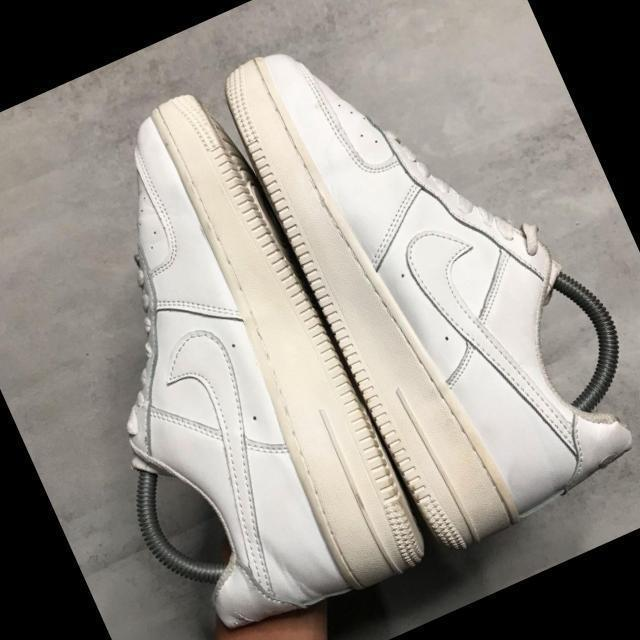nike fake air force: (2, 77, 444, 640), (213, 0, 640, 556)
